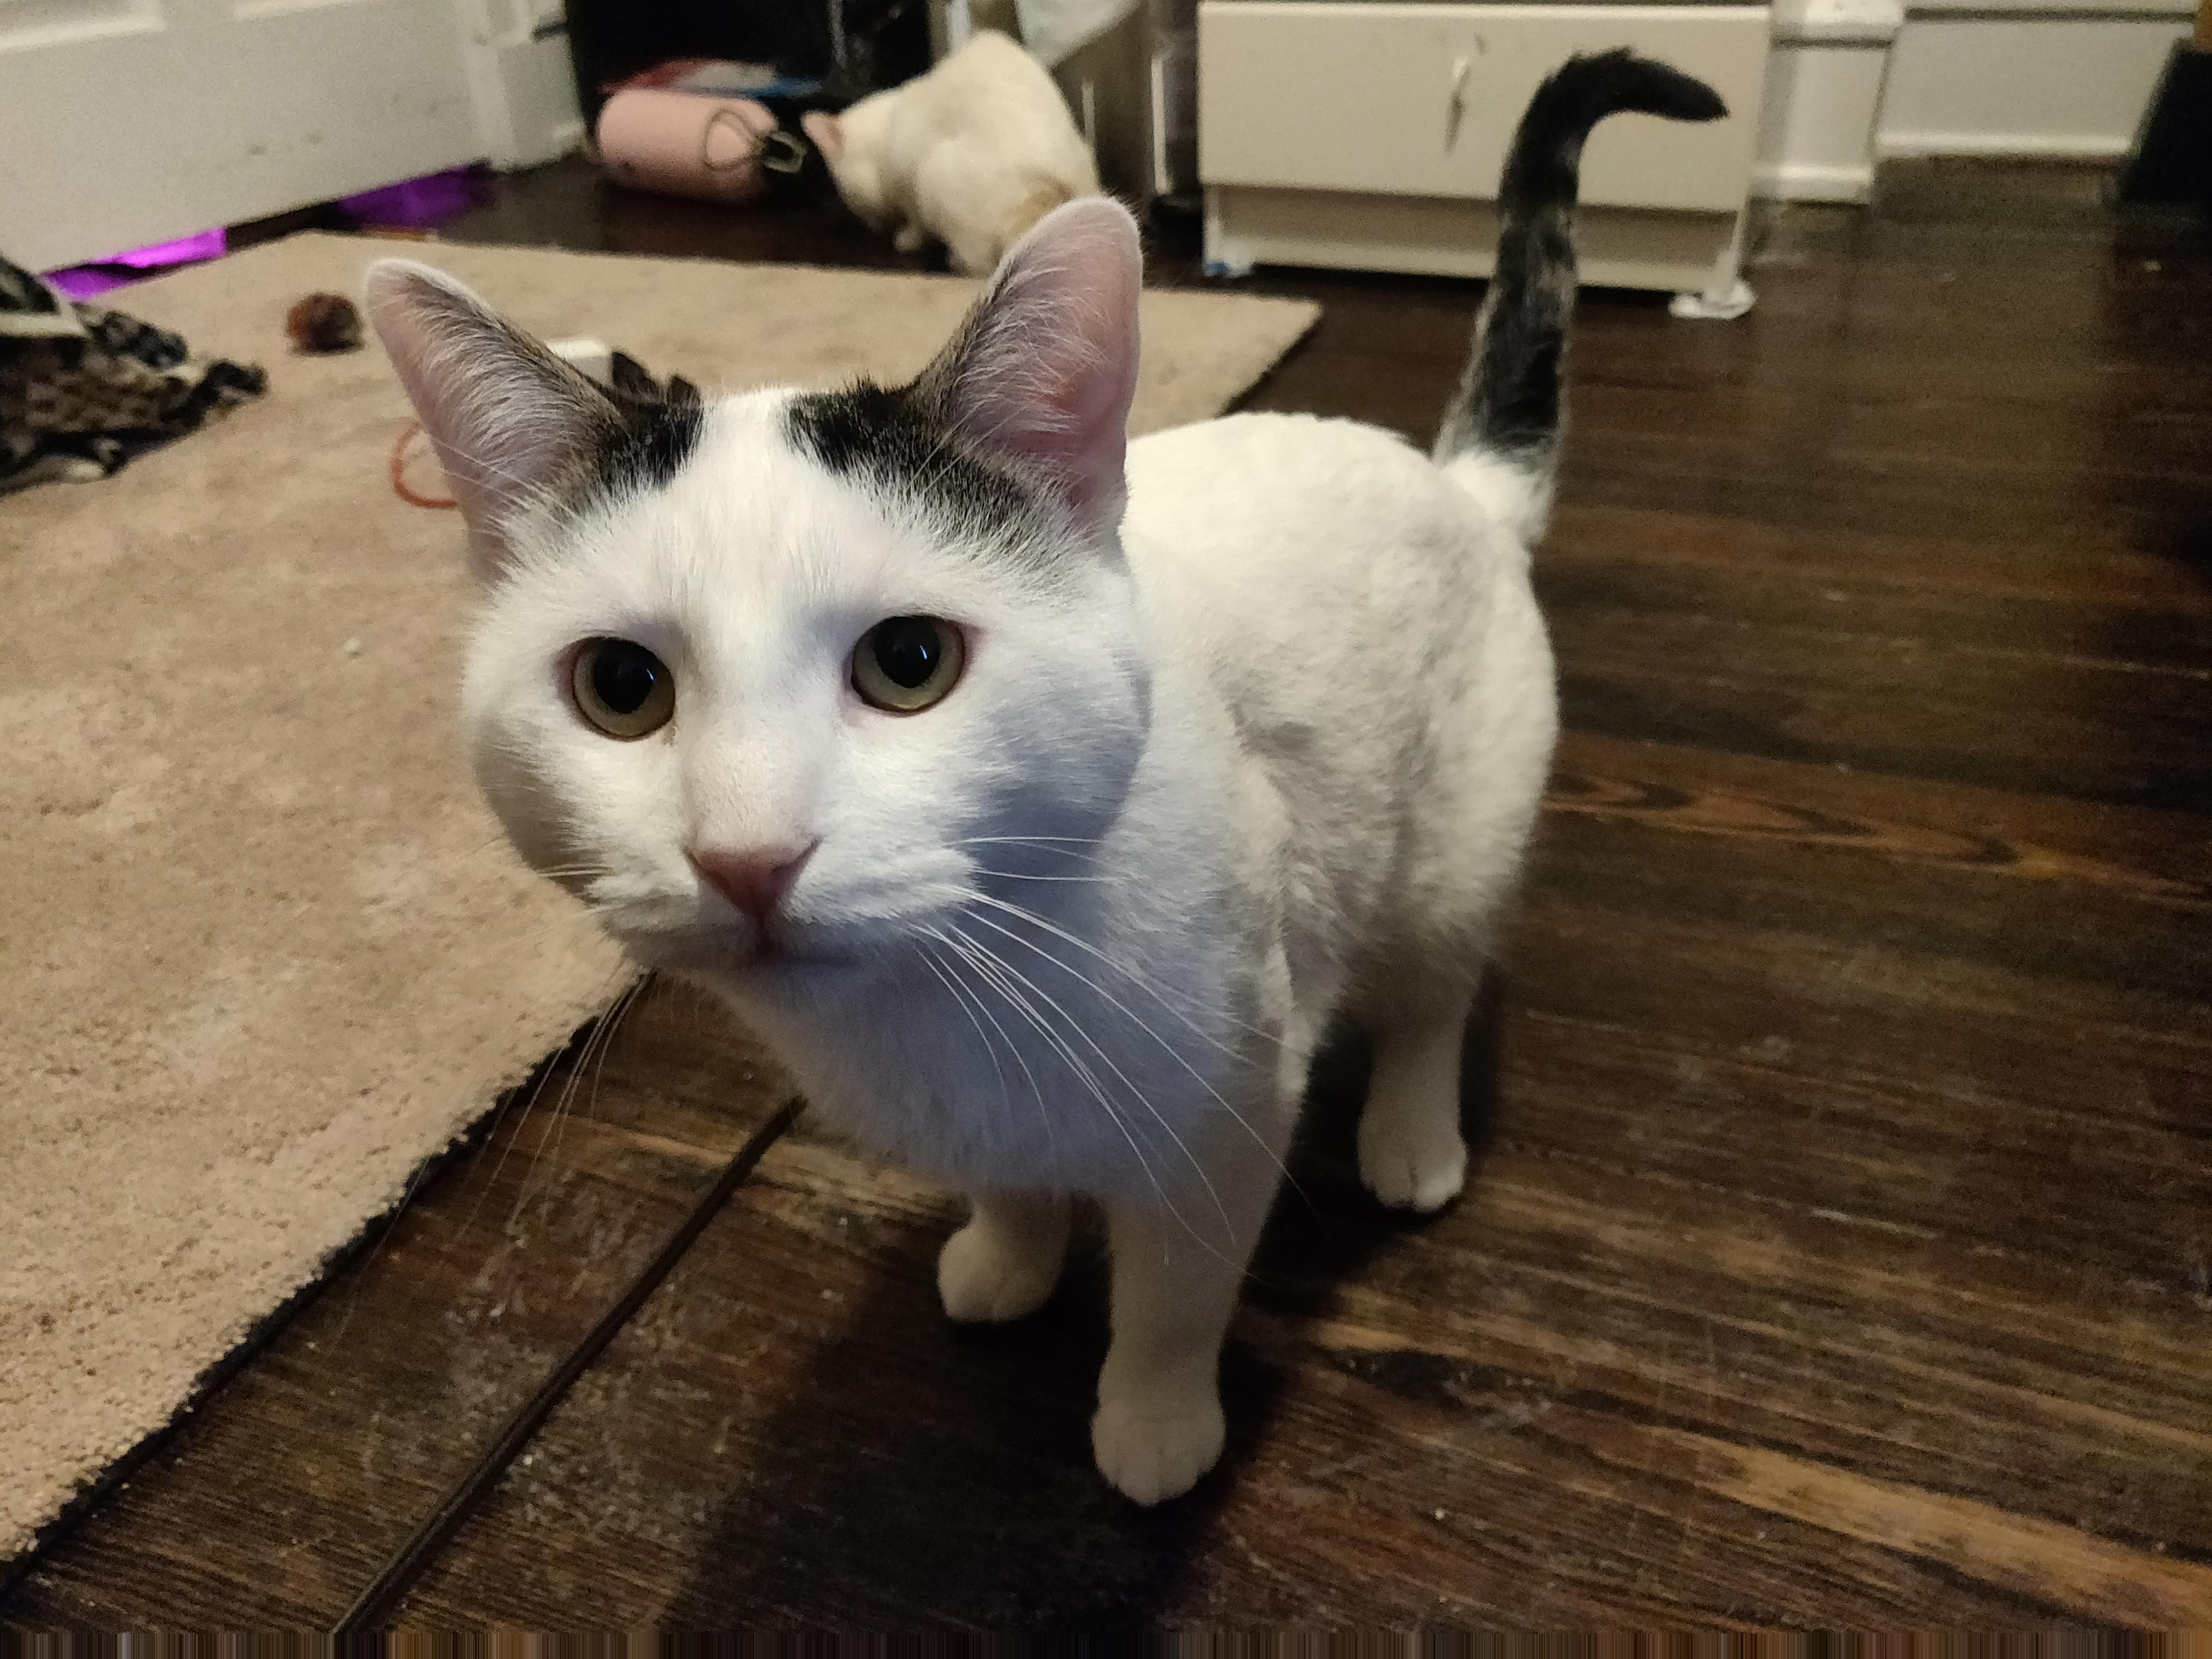cat: (340, 221, 1549, 1495)
